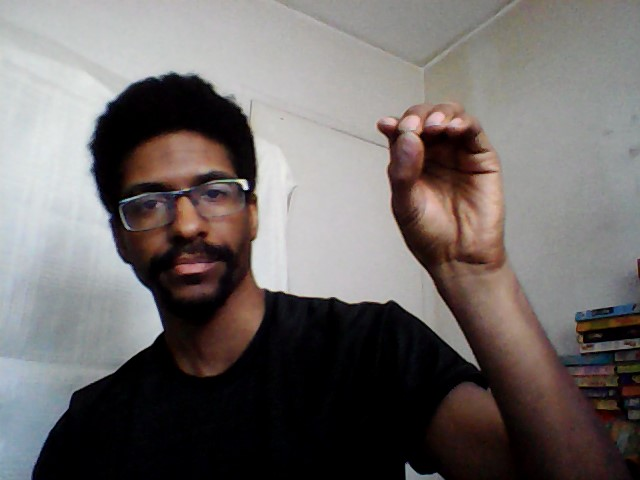o: (374, 95, 515, 273)
